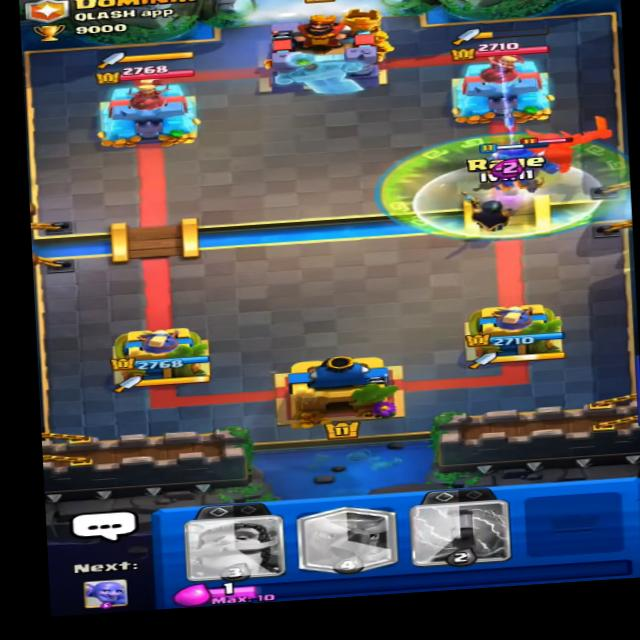pekka: (511, 109, 614, 173)
